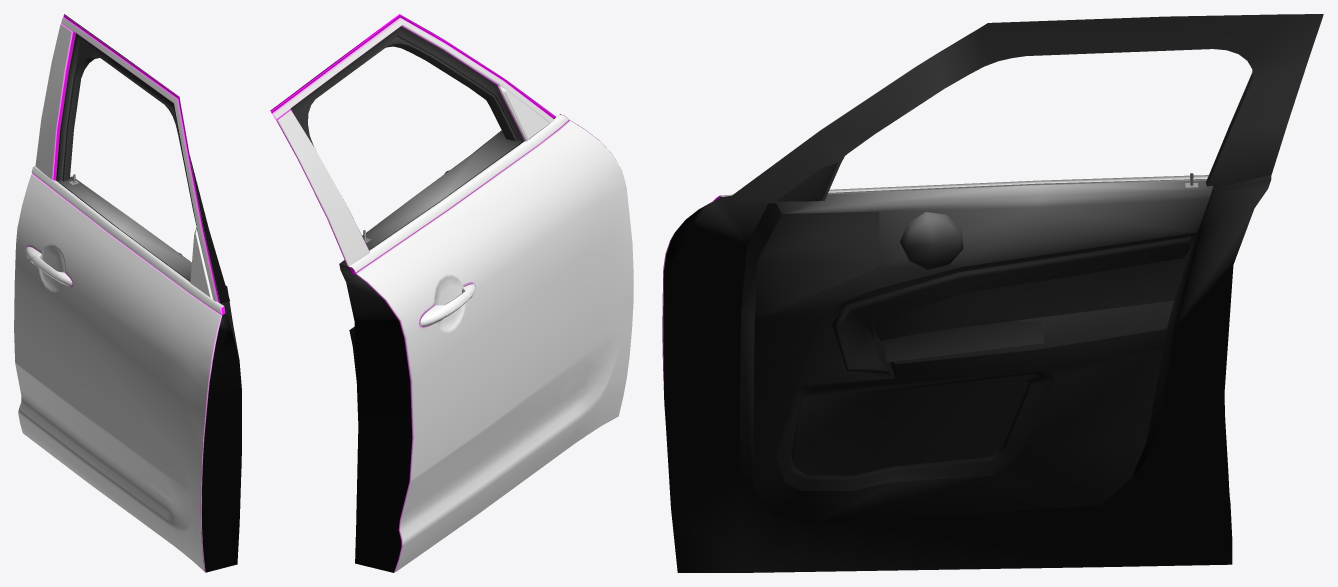
The model's file is Car_Mini_CountrymanJCW_2017_DoorR_SetA_AltB.fbx.
The picture shows the model from 3 angles, left to right: view 1: azimuth 30°, elevation 25°; view 2: azimuth 150°, elevation 25°; view 3: azimuth 270°, elevation 25°; orthographic projection. The views are drawn at different scales.
Visible parts, largest first — view 1: DoorR 6; view 2: DoorR 6; view 3: DoorR 6.
Part boxes in pixels (left/top/right/bottom): DoorR 6: left=14, top=14, right=241, bottom=572; DoorR 6: left=270, top=14, right=633, bottom=572; DoorR 6: left=662, top=14, right=1323, bottom=572.
Bounding box in the file's own units: 0.307 × 1.16 × 1.19.
